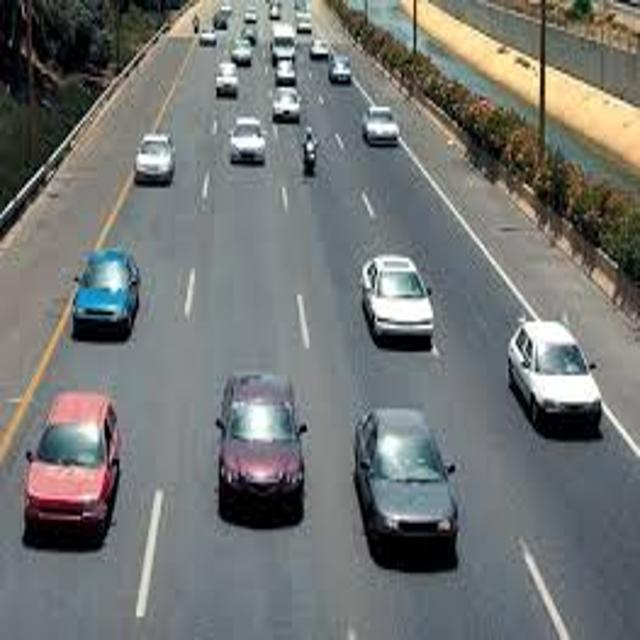car: (22, 391, 122, 543), (355, 410, 458, 549), (215, 374, 307, 502), (507, 321, 601, 430), (358, 256, 433, 340), (71, 251, 141, 332), (135, 134, 177, 183), (228, 115, 267, 162), (362, 107, 400, 147), (272, 87, 299, 120), (214, 63, 240, 93), (327, 56, 353, 82), (274, 60, 299, 82), (309, 39, 330, 57)
